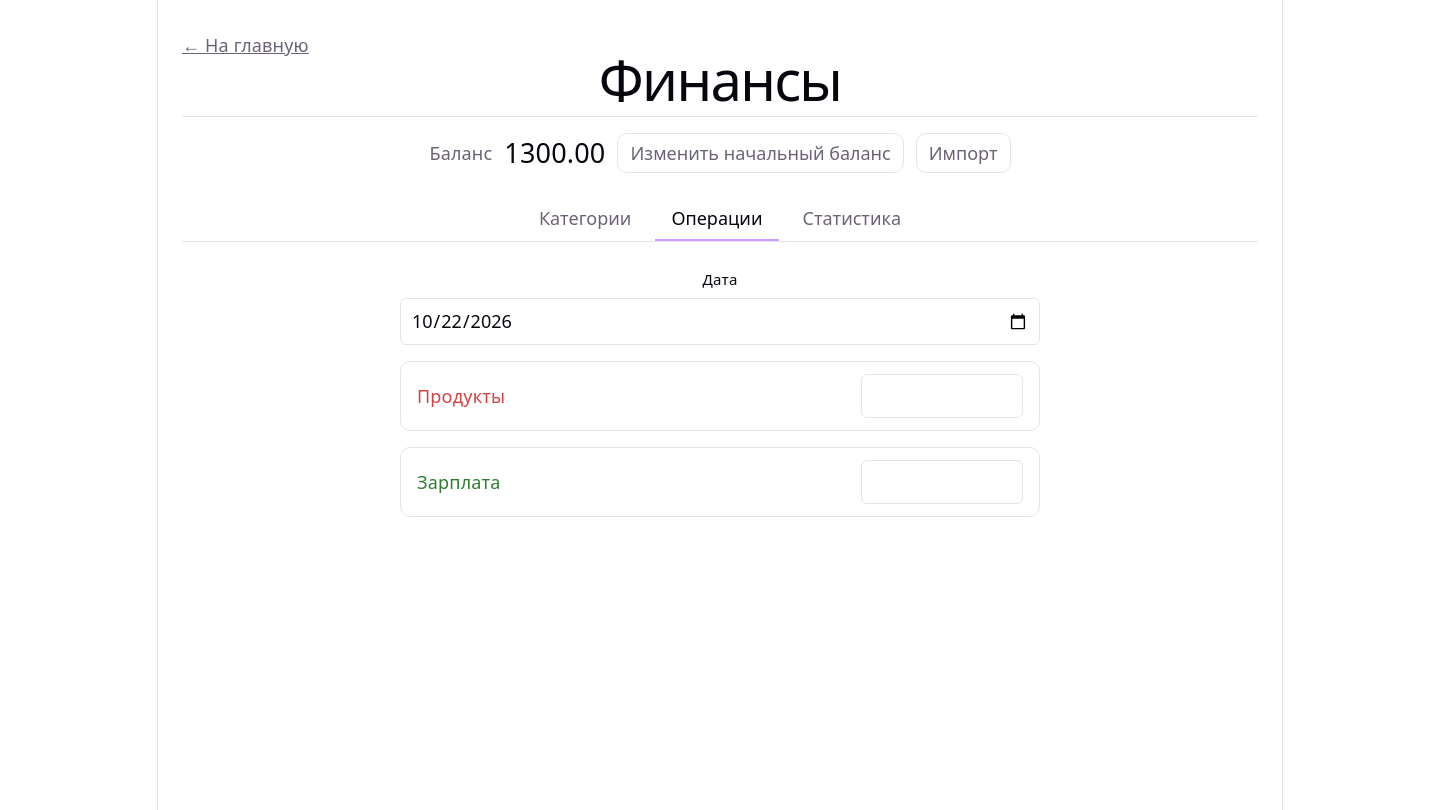
Test: FinancesPage › располагает кнопки действий последовательно и показывает план после них
expect the text "1300.00" is shown: met, box [504, 140, 606, 166]
What coordinates should you click on to do the following:
click the tab "Категории"
I would click on:
 (585, 219)
Its box is [523, 197, 647, 241].
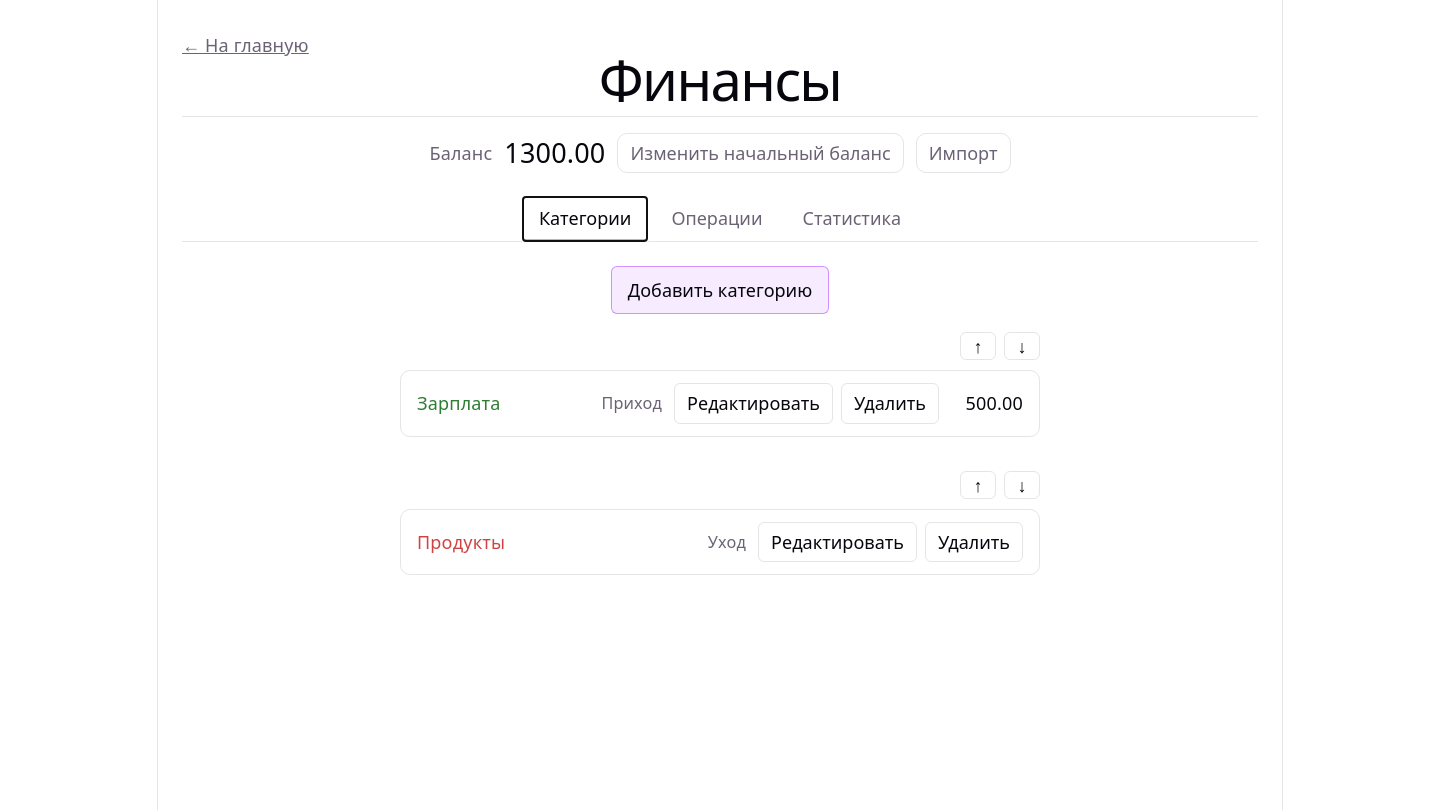
expect the text with class "category-plan" reads "500.00": met, box [966, 392, 1023, 416]
